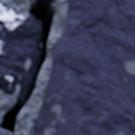brick: (33, 0, 134, 134), (0, 5, 39, 100), (0, 129, 13, 134), (35, 0, 53, 3)
crack: (0, 2, 54, 132)
